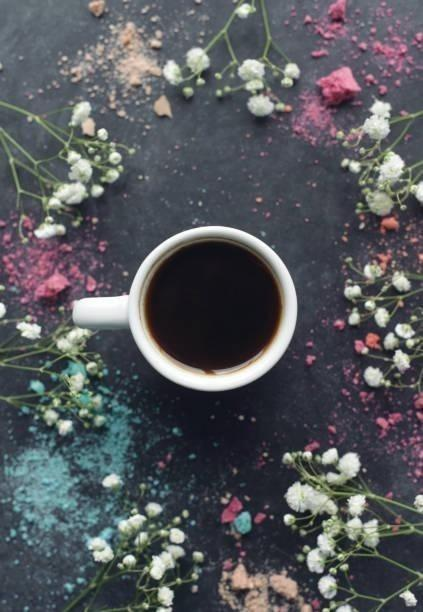cup-handle: (71, 224, 300, 395)
